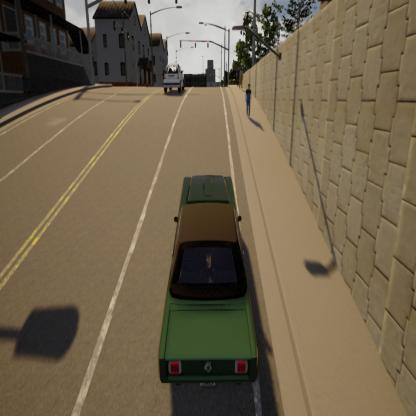Cars: (152, 164, 263, 405), (162, 60, 186, 96)
Pedestrian: (242, 82, 254, 124), (237, 67, 245, 90), (236, 64, 242, 87)
